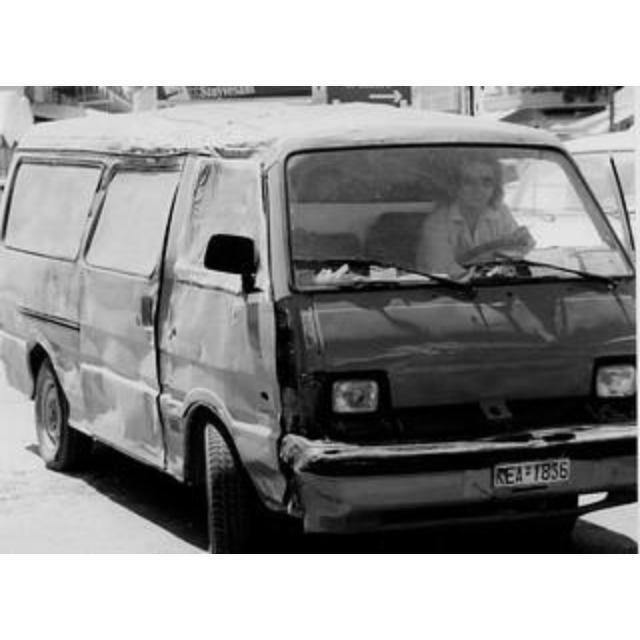doorouter-dent: (166, 284, 278, 434), (80, 276, 162, 440)
roof-dent: (50, 96, 386, 150)
